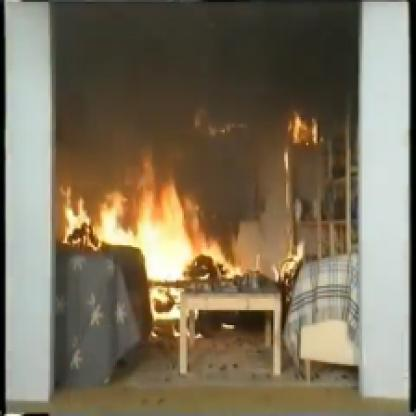fire: (61, 160, 219, 322), (192, 215, 334, 298), (277, 110, 329, 163)
